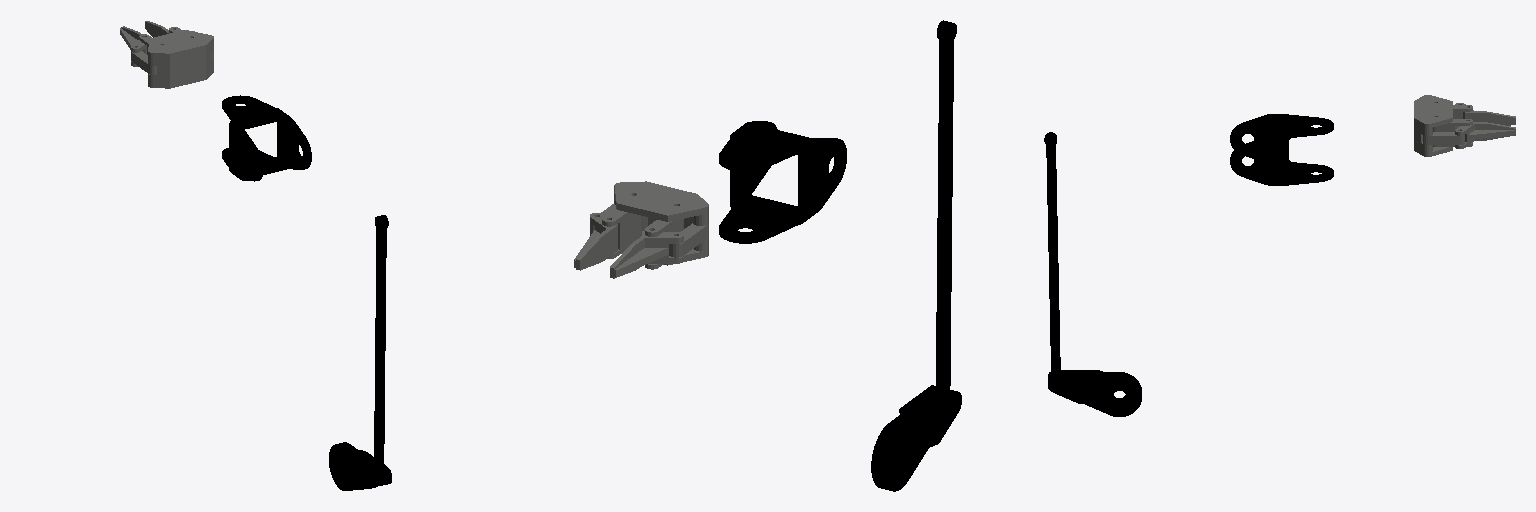
robot.urdf — grips:
<?xml version="1.0" ?>
<!-- =================================================================================== -->
<!-- |    This document was autogenerated by xacro from [local-path]/catkin_ws/src/grips/grips_description/robots/grips.xacro | -->
<!-- |    EDITING THIS FILE BY HAND IS NOT RECOMMENDED                                 | -->
<!-- =================================================================================== -->
<robot name="grips" xmlns:xacro="http://www.ros.org/wiki/xacro">
  <!-- Import common macros-->
  <!-- Import materials for rviz-->
  <material name="black">
    <color rgba="0.0 0.0 0.0 1.0"/>
  </material>
  <material name="blue">
    <color rgba="0.0 0.0 0.8 1.0"/>
  </material>
  <material name="green">
    <color rgba="0.0 0.8 0.0 1.0"/>
  </material>
  <material name="grey">
    <color rgba="0.2 0.2 0.2 1.0"/>
  </material>
  <material name="orange">
    <color rgba="1.0 0.423529411765 0.0392156862745 1.0"/>
  </material>
  <material name="brown">
    <color rgba="0.870588235294 0.811764705882 0.764705882353 1.0"/>
  </material>
  <material name="red">
    <color rgba="0.8 0.0 0.0 1.0"/>
  </material>
  <material name="white">
    <color rgba="1.0 1.0 1.0 1.0"/>
  </material>
  <material name="metal_seamed">
    <color rgba="0.4627450980392157 0.4666666666666667 0.4509803921568628 1.0"/>
  </material>
  <!-- Import robot without gripper -->
  <!-- Import simple gripper -->
  <!-- Create the grips robot -->
  <link name="base_link">
    <visual>
      <geometry>
        <mesh filename="package://grips_description/meshes/base/base.dae"/>
      </geometry>
      <material name="black"/>
    </visual>
    <collision>
      <geometry>
        <mesh filename="package://grips_description/meshes/base/base_collision.dae"/>
      </geometry>
    </collision>
    <inertial>
      <origin rpy="0 0 0" xyz="0 0 7e-3"/>
      <mass value="1.208"/>
      <inertia ixx="0.003" ixy="0.0" ixz="0.0" iyy="0.003" iyz="0.0" izz="0.006"/>
    </inertial>
  </link>
  <link name="manifold">
    <visual>
      <geometry>
        <mesh filename="package://grips_description/meshes/manifold/manifold.dae"/>
      </geometry>
      <material name="blue"/>
    </visual>
    <collision>
      <geometry>
        <mesh filename="package://grips_description/meshes/manifold/manifold_collision.dae"/>
      </geometry>
    </collision>
    <inertial>
      <origin rpy="0 0 0" xyz="0 2e-3 0.21"/>
      <mass value="41.111"/>
      <inertia ixx="0.549" ixy="-9.556e-5" ixz="-5.871e-5" iyy="0.855" iyz="2e-3" izz="0.605"/>
    </inertial>
  </link>
  <link name="upper_arm">
    <visual>
      <geometry>
        <mesh filename="package://grips_description/meshes/upper_arm/upper_arm.dae"/>
      </geometry>
      <material name="black"/>
    </visual>
    <collision>
      <geometry>
        <mesh filename="package://grips_description/meshes/upper_arm/upper_arm_collision.dae"/>
      </geometry>
    </collision>
    <inertial>
      <origin rpy="0 0 0" xyz="0 5e-3 0.227"/>
      <mass value="3.592"/>
      <inertia ixx="0.103" ixy="0" ixz="0" iyy="0.106" iyz="0.004" izz="0.013"/>
    </inertial>
  </link>
  <link name="elbow_pivot">
    <visual>
      <geometry>
        <mesh filename="package://grips_description/meshes/linkage/elbow_pivot.dae"/>
      </geometry>
      <material name="black"/>
    </visual>
    <collision>
      <geometry>
        <mesh filename="package://grips_description/meshes/linkage/elbow_pivot.dae"/>
      </geometry>
    </collision>
    <inertial>
      <origin rpy="0 0 0" xyz="-3.6e-10 80.686e-3 -6.33e-5"/>
      <mass value="0.72"/>
      <inertia ixx="0.002" ixy="-3.231e-27" ixz="0" iyy="3.397e-4" iyz="-1.919e-5" izz="0.002"/>
    </inertial>
  </link>
  <link name="coupling">
    <visual>
      <geometry>
        <mesh filename="package://grips_description/meshes/linkage/coupling.dae"/>
      </geometry>
      <material name="black"/>
    </visual>
    <collision>
      <geometry>
        <mesh filename="package://grips_description/meshes/linkage/coupling.dae"/>
      </geometry>
    </collision>
    <inertial>
      <origin rpy="0 0 0" xyz="0 0 -0.26035"/>
      <mass value="0.446"/>
      <inertia ixx="0.011" ixy="-3.231e-27" ixz="0" iyy="0.011" iyz="0" izz="2.102e-5"/>
    </inertial>
  </link>
  <link name="forearm">
    <visual>
      <geometry>
        <mesh filename="package://grips_description/meshes/forearm/forearm.dae"/>
      </geometry>
      <material name="black"/>
    </visual>
    <collision>
      <geometry>
        <mesh filename="package://grips_description/meshes/forearm/forearm_collision.dae"/>
      </geometry>
    </collision>
    <inertial>
      <origin rpy="0 0 0" xyz="0 0.155337 0.012119"/>
      <mass value="4.935"/>
      <inertia ixx="0.073" ixy="0" ixz="0" iyy="0.009" iyz="0.004" izz="0.073"/>
    </inertial>
  </link>
  <link name="pitch">
    <visual>
      <geometry>
        <mesh filename="package://grips_description/meshes/pitch/pitch.dae"/>
      </geometry>
      <material name="black"/>
    </visual>
    <collision>
      <geometry>
        <mesh filename="package://grips_description/meshes/pitch/pitch_collision.dae"/>
      </geometry>
    </collision>
    <inertial>
      <origin rpy="0 0 0" xyz="0 0.065 0"/>
      <mass value="0.679"/>
      <inertia ixx="0.003" ixy="0" ixz="0" iyy="0.002" iyz="0.004" izz="0.002"/>
    </inertial>
  </link>
  <link name="yaw">
    <visual>
      <geometry>
        <mesh filename="package://grips_description/meshes/yaw/yaw.dae"/>
      </geometry>
      <material name="black"/>
    </visual>
    <collision>
      <geometry>
        <mesh filename="package://grips_description/meshes/yaw/yaw_collision.dae"/>
      </geometry>
    </collision>
    <inertial>
      <origin rpy="0 0 0" xyz="-1e-3 95.791e-3 18.273e-3"/>
      <mass value="4.689"/>
      <inertia ixx="0.027" ixy="1.597e-4" ixz="-2.174e-4" iyy="0.009" iyz="-0.003" izz="0.026"/>
    </inertial>
  </link>
  <link name="end_effector"/>
  <link name="camera">
    <visual>
      <geometry>
        <mesh filename="package://grips_description/meshes/camera/camera.dae"/>
      </geometry>
      <material name="black"/>
    </visual>
    <collision>
      <geometry>
        <mesh filename="package://grips_description/meshes/camera/camera_collision.dae"/>
      </geometry>
    </collision>
    <inertial>
      <origin rpy="0 0 0" xyz="0.077 0.007 0.002"/>
      <mass value="0.869"/>
      <inertia ixx="0.001" ixy="-1.561e-4" ixz="-5.859e-5" iyy="0.002" iyz="3.295e-5" izz="0.002"/>
    </inertial>
  </link>
  <joint name="SA" type="revolute">
    <child link="manifold"/>
    <parent link="base_link"/>
    <axis xyz="0 0 1"/>
    <origin rpy="0 0 0" xyz="0 0 15.24e-3"/>
    <limit effort="200" lower="-1.57079632679" upper="1.57079632679" velocity="15"/>
    <dynamics damping="5"/>
  </joint>
  <joint name="SE" type="revolute">
    <child link="upper_arm"/>
    <parent link="manifold"/>
    <axis xyz="1 0 0"/>
    <origin rpy="0 0 0" xyz="0 0 0.33812"/>
    <limit effort="200" lower="-1.57079632679" upper="0.523598775598" velocity="15"/>
    <dynamics damping="5" friction="10"/>
  </joint>
  <joint name="linkage_tr" type="revolute">
    <child link="forearm"/>
    <parent link="upper_arm"/>
    <axis xyz="1 0 0"/>
    <origin rpy="0 0 0" xyz="0 -9.82e-3 0.52167"/>
    <limit effort="200" lower="-1.28" upper="1.0471975512" velocity="15"/>
    <dynamics damping="10"/>
  </joint>
  <joint name="WP" type="revolute">
    <child link="pitch"/>
    <parent link="forearm"/>
    <axis xyz="1 0 0"/>
    <origin rpy="0 0 0" xyz="0 0.26109 7.5e-3"/>
    <limit effort="200" lower="-1.1" upper="0.581" velocity="15"/>
    <dynamics damping="5"/>
  </joint>
  <joint name="WY" type="revolute">
    <child link="yaw"/>
    <parent link="pitch"/>
    <axis xyz="0 0 1"/>
    <origin rpy="0 0 0" xyz="0 0.13322 0"/>
    <limit effort="200" lower="-1.01" upper="0.675" velocity="15"/>
    <dynamics damping="5"/>
  </joint>
  <joint name="WR" type="continuous">
    <child link="end_effector"/>
    <parent link="yaw"/>
    <axis xyz="0 1 0"/>
    <origin rpy="0 0 0" xyz="-0.787e-3 0.190892 0.051331"/>
    <limit effort="200" velocity="200"/>
    <dynamics damping="0.5"/>
  </joint>
  <joint name="camera_joint" type="fixed">
    <child link="camera"/>
    <parent link="yaw"/>
    <axis xyz="0 1 0"/>
    <origin rpy="0 0.523598775598 1.57079632679" xyz="0 0.095446 0.25"/>
  </joint>
  <joint name="linkage_tl" type="continuous">
    <child link="coupling"/>
    <parent link="forearm"/>
    <axis xyz="1 0 0"/>
    <origin rpy="0.019320795 0 0" xyz="0 -0.123444 0.029845"/>
    <limit effort="200" velocity="15"/>
    <dynamics damping="0.5" friction="0.5"/>
  </joint>
  <joint name="linkage_bl" type="continuous">
    <child link="elbow_pivot"/>
    <parent link="coupling"/>
    <axis xyz="1 0 0"/>
    <origin rpy="-0.24521876 0 0" xyz="0 0 -0.5207"/>
    <limit effort="200" velocity="15"/>
    <dynamics damping="0.5" friction="0.5"/>
  </joint>
  <transmission name="SA_tran">
    <type>transmission_interface/SimpleTransmission</type>
    <joint name="SA"/>
    <actuator name="SA_motor">
      <hardwareInterface>EffortJointInterface</hardwareInterface>
      <mechanicalReduction>1</mechanicalReduction>
    </actuator>
  </transmission>
  <transmission name="SE_tran">
    <type>transmission_interface/SimpleTransmission</type>
    <joint name="SE"/>
    <actuator name="SE_motor">
      <hardwareInterface>EffortJointInterface</hardwareInterface>
      <mechanicalReduction>1</mechanicalReduction>
    </actuator>
  </transmission>
  <transmission name="WP_tran">
    <type>transmission_interface/SimpleTransmission</type>
    <joint name="WP"/>
    <actuator name="WP_motor">
      <hardwareInterface>EffortJointInterface</hardwareInterface>
      <mechanicalReduction>1</mechanicalReduction>
    </actuator>
  </transmission>
  <transmission name="WY_tran">
    <type>transmission_interface/SimpleTransmission</type>
    <joint name="WY"/>
    <actuator name="WY_motor">
      <hardwareInterface>EffortJointInterface</hardwareInterface>
      <mechanicalReduction>1</mechanicalReduction>
    </actuator>
  </transmission>
  <transmission name="WR_tran">
    <type>transmission_interface/SimpleTransmission</type>
    <joint name="WR"/>
    <actuator name="WR_motor">
      <hardwareInterface>EffortJointInterface</hardwareInterface>
      <mechanicalReduction>1</mechanicalReduction>
    </actuator>
  </transmission>
  <transmission name="linkage_tr_tran">
    <type>transmission_interface/SimpleTransmission</type>
    <joint name="linkage_tr"/>
    <actuator name="linkage_tr_motor">
      <hardwareInterface>EffortJointInterface</hardwareInterface>
      <mechanicalReduction>1</mechanicalReduction>
    </actuator>
  </transmission>
  <transmission name="linkage_tl_tran">
    <type>transmission_interface/SimpleTransmission</type>
    <joint name="linkage_tl"/>
    <actuator name="linkage_tl_motor">
      <hardwareInterface>EffortJointInterface</hardwareInterface>
      <mechanicalReduction>1</mechanicalReduction>
    </actuator>
  </transmission>
  <transmission name="linkage_bl_tran">
    <type>transmission_interface/SimpleTransmission</type>
    <joint name="linkage_bl"/>
    <actuator name="linkage_bl_motor">
      <hardwareInterface>EffortJointInterface</hardwareInterface>
      <mechanicalReduction>1</mechanicalReduction>
    </actuator>
  </transmission>
  <gazebo reference="base_link">
    <material>Telerobcar/MetalSeamed</material>
    <selfCollide>false</selfCollide>
  </gazebo>
  <gazebo reference="manifold">
    <material>Telerobcar/MetalSeamed</material>
    <selfCollide>false</selfCollide>
  </gazebo>
  <gazebo reference="upper_arm">
    <material>Telerobcar/MetalSeamed</material>
    <selfCollide>false</selfCollide>
  </gazebo>
  <gazebo reference="elbow_pivot">
    <material>Telerobcar/MetalSeamed</material>
    <selfCollide>false</selfCollide>
  </gazebo>
  <gazebo reference="coupling">
    <material>Telerobcar/MetalSeamed</material>
    <selfCollide>false</selfCollide>
  </gazebo>
  <gazebo reference="forearm">
    <material>Telerobcar/MetalSeamed</material>
    <selfCollide>false</selfCollide>
  </gazebo>
  <gazebo reference="pitch">
    <material>Telerobcar/MetalSeamed</material>
    <selfCollide>false</selfCollide>
  </gazebo>
  <gazebo reference="yaw">
    <material>Telerobcar/MetalSeamed</material>
    <selfCollide>false</selfCollide>
  </gazebo>
  <gazebo reference="camera">
    <material>Gazebo/FlatBlack</material>
    <selfCollide>false</selfCollide>
    <sensor name="camera" type="camera">
      <update_rate>30.0</update_rate>
      <camera name="camera">
        <horizontal_fov>1.3962634</horizontal_fov>
        <image>
          <width>800</width>
          <height>800</height>
          <format>R8G8B8</format>
        </image>
        <clip>
          <near>0.02</near>
          <far>300</far>
        </clip>
      </camera>
      <plugin filename="libgazebo_ros_camera.so" name="camera_controller">
        <alwaysOn>true</alwaysOn>
        <updateRate>0.0</updateRate>
        <cameraName>camera</cameraName>
        <imageTopicName>image_raw</imageTopicName>
        <cameraInfoTopicName>camera_info</cameraInfoTopicName>
        <frameName>camera</frameName>
        <hackBaseline>0.07</hackBaseline>
        <distortionK1>0.0</distortionK1>
        <distortionK2>0.0</distortionK2>
        <distortionK3>0.0</distortionK3>
        <distortionT1>0.0</distortionT1>
        <distortionT2>0.0</distortionT2>
      </plugin>
    </sensor>
  </gazebo>
  <!-- Create the simple_gripper -->
  <link name="gripper_base">
    <visual>
      <geometry>
        <mesh filename="package://grips_description/meshes/gripper/gripper_base.dae"/>
      </geometry>
      <material name="metal_seamed"/>
    </visual>
    <collision>
      <geometry>
        <mesh filename="package://grips_description/meshes/gripper/gripper_base.dae"/>
      </geometry>
    </collision>
    <inertial>
      <origin rpy="0 0 0" xyz="0 26.28e-3 0"/>
      <mass value="0.923"/>
      <inertia ixx="0.003" ixy="0.0" ixz="0.0" iyy="0.003" iyz="0.0" izz="0.006"/>
    </inertial>
  </link>
  <link name="r_outer">
    <visual>
      <geometry>
        <mesh filename="package://grips_description/meshes/gripper/outer_pivot.dae"/>
      </geometry>
      <material name="metal_seamed"/>
    </visual>
    <collision>
      <geometry>
        <mesh filename="package://grips_description/meshes/gripper/outer_pivot.dae"/>
      </geometry>
    </collision>
    <inertial>
      <origin rpy="0 0 0" xyz="0 31.725e-3 0"/>
      <mass value="0.091"/>
      <inertia ixx="4.664e-5" ixy="0.0" ixz="0.0" iyy="5.519e-6" iyz="0.0" izz="4.682e-5"/>
    </inertial>
  </link>
  <link name="l_outer">
    <visual>
      <geometry>
        <mesh filename="package://grips_description/meshes/gripper/outer_pivot.dae"/>
      </geometry>
      <material name="metal_seamed"/>
    </visual>
    <collision>
      <geometry>
        <mesh filename="package://grips_description/meshes/gripper/outer_pivot.dae"/>
      </geometry>
    </collision>
    <inertial>
      <origin rpy="0 0 0" xyz="0 31.725e-3 0"/>
      <mass value="0.091"/>
      <inertia ixx="4.664e-5" ixy="0.0" ixz="0.0" iyy="5.519e-6" iyz="0.0" izz="4.682e-5"/>
    </inertial>
  </link>
  <link name="r_inner">
    <visual>
      <geometry>
        <mesh filename="package://grips_description/meshes/gripper/r_inner_pivot.dae"/>
      </geometry>
      <material name="metal_seamed"/>
    </visual>
    <collision>
      <geometry>
        <mesh filename="package://grips_description/meshes/gripper/r_inner_pivot.dae"/>
      </geometry>
    </collision>
    <inertial>
      <origin rpy="0 0 0" xyz="-0.316e-3 23.873e-3 0"/>
      <mass value="0.194"/>
      <inertia ixx="1.179e-4" ixy="1.347e-6" ixz="0.0" iyy="5.647e-5" iyz="0.0" izz="7.353e-5"/>
    </inertial>
  </link>
  <link name="l_inner">
    <visual>
      <geometry>
        <mesh filename="package://grips_description/meshes/gripper/l_inner_pivot.dae"/>
      </geometry>
      <material name="metal_seamed"/>
    </visual>
    <collision>
      <geometry>
        <mesh filename="package://grips_description/meshes/gripper/l_inner_pivot.dae"/>
      </geometry>
    </collision>
    <inertial>
      <origin rpy="0 0 0" xyz="0.316e-3 23.873e-3 0"/>
      <mass value="0.194"/>
      <inertia ixx="1.179e-4" ixy="-1.347e-6" ixz="0.0" iyy="5.647e-5" iyz="0.0" izz="7.353e-5"/>
    </inertial>
  </link>
  <link name="r_finger">
    <visual>
      <geometry>
        <mesh filename="package://grips_description/meshes/gripper/r_finger.dae"/>
      </geometry>
      <material name="metal_seamed"/>
    </visual>
    <collision>
      <geometry>
        <mesh filename="package://grips_description/meshes/gripper/r_finger.dae"/>
      </geometry>
    </collision>
    <inertial>
      <origin rpy="0 0 0" xyz="3.441e-3 20.353e-3 0"/>
      <mass value="0.174"/>
      <inertia ixx="1.65e-4" ixy="3.16e-5" ixz="0.0" iyy="3.595e-5" iyz="0.0" izz="1.701e-4"/>
    </inertial>
  </link>
  <link name="l_finger">
    <visual>
      <geometry>
        <mesh filename="package://grips_description/meshes/gripper/l_finger.dae"/>
      </geometry>
      <material name="metal_seamed"/>
    </visual>
    <collision>
      <geometry>
        <mesh filename="package://grips_description/meshes/gripper/l_finger.dae"/>
      </geometry>
    </collision>
    <inertial>
      <origin rpy="0 0 0" xyz="-3.441e-3 20.353e-3 0"/>
      <mass value="0.174"/>
      <inertia ixx="1.65e-4" ixy="-3.16e-5" ixz="0.0" iyy="3.595e-5" iyz="0.0" izz="1.701e-4"/>
    </inertial>
  </link>
  <joint name="r_inner" type="revolute">
    <child link="r_inner"/>
    <parent link="gripper_base"/>
    <axis xyz="0 0 1"/>
    <origin rpy="0 0 0" xyz="31.737e-3 42.19e-3 0"/>
    <limit effort="200" lower="-1.43" upper="0.4" velocity="15"/>
    <dynamics damping="0.1"/>
  </joint>
  <joint name="l_inner" type="revolute">
    <child link="l_inner"/>
    <parent link="gripper_base"/>
    <axis xyz="0 0 1"/>
    <origin rpy="0 0 0" xyz="-31.737e-3 42.19e-3 0"/>
    <limit effort="200" lower="-0.4" upper="1.43" velocity="15"/>
    <dynamics damping="0.1"/>
  </joint>
  <joint name="r_outer" type="revolute">
    <child link="r_outer"/>
    <parent link="gripper_base"/>
    <axis xyz="0 0 1"/>
    <origin rpy="0 0 0" xyz="58.93e-3 26.49e-3 0"/>
    <limit effort="200" lower="-1.43" upper="0.4" velocity="15"/>
    <dynamics damping="0.1"/>
  </joint>
  <joint name="l_outer" type="revolute">
    <child link="l_outer"/>
    <parent link="gripper_base"/>
    <axis xyz="0 0 1"/>
    <origin rpy="0 0 0" xyz="-58.93e-3 26.49e-3 0"/>
    <limit effort="200" lower="-0.4" upper="1.43" velocity="15"/>
    <dynamics damping="0.1"/>
  </joint>
  <joint name="r_finger" type="revolute">
    <child link="r_finger"/>
    <parent link="r_inner"/>
    <axis xyz="0 0 1"/>
    <origin rpy="0 0 0" xyz="0 63.45e-3 0"/>
    <limit effort="200" lower="-1.57079632679" upper="1.57079632679" velocity="15"/>
    <dynamics damping="0.1"/>
  </joint>
  <joint name="l_finger" type="revolute">
    <child link="l_finger"/>
    <parent link="l_inner"/>
    <axis xyz="0 0 1"/>
    <origin rpy="0 0 0" xyz="0 63.45e-3 0"/>
    <limit effort="200" lower="-1.57079632679" upper="1.57079632679" velocity="15"/>
    <dynamics damping="0.1"/>
  </joint>
  <transmission name="r_outer_tran">
    <type>transmission_interface/SimpleTransmission</type>
    <joint name="r_outer"/>
    <actuator name="r_outer_motor">
      <hardwareInterface>EffortJointInterface</hardwareInterface>
      <mechanicalReduction>1</mechanicalReduction>
    </actuator>
  </transmission>
  <transmission name="l_outer_tran">
    <type>transmission_interface/SimpleTransmission</type>
    <joint name="l_outer"/>
    <actuator name="l_outer_motor">
      <hardwareInterface>EffortJointInterface</hardwareInterface>
      <mechanicalReduction>1</mechanicalReduction>
    </actuator>
  </transmission>
  <transmission name="r_inner_tran">
    <type>transmission_interface/SimpleTransmission</type>
    <joint name="r_inner"/>
    <actuator name="r_inner_motor">
      <hardwareInterface>EffortJointInterface</hardwareInterface>
      <mechanicalReduction>1</mechanicalReduction>
    </actuator>
  </transmission>
  <transmission name="l_inner_tran">
    <type>transmission_interface/SimpleTransmission</type>
    <joint name="l_inner"/>
    <actuator name="l_inner_motor">
      <hardwareInterface>EffortJointInterface</hardwareInterface>
      <mechanicalReduction>1</mechanicalReduction>
    </actuator>
  </transmission>
  <transmission name="r_finger_tran">
    <type>transmission_interface/SimpleTransmission</type>
    <joint name="r_finger"/>
    <actuator name="r_finger_motor">
      <hardwareInterface>EffortJointInterface</hardwareInterface>
      <mechanicalReduction>1</mechanicalReduction>
    </actuator>
  </transmission>
  <transmission name="l_finger_tran">
    <type>transmission_interface/SimpleTransmission</type>
    <joint name="l_finger"/>
    <actuator name="l_finger_motor">
      <hardwareInterface>EffortJointInterface</hardwareInterface>
      <mechanicalReduction>1</mechanicalReduction>
    </actuator>
  </transmission>
  <gazebo reference="gripper_base">
    <material>Telerobcar/MetalSeamed</material>
    <selfCollide>false</selfCollide>
  </gazebo>
  <gazebo reference="r_outer">
    <material>Telerobcar/MetalSeamed</material>
    <selfCollide>false</selfCollide>
  </gazebo>
  <gazebo reference="l_outer">
    <material>Telerobcar/MetalSeamed</material>
    <selfCollide>false</selfCollide>
  </gazebo>
  <gazebo reference="r_inner">
    <material>Telerobcar/MetalSeamed</material>
    <selfCollide>false</selfCollide>
  </gazebo>
  <gazebo reference="l_inner">
    <material>Telerobcar/MetalSeamed</material>
    <selfCollide>false</selfCollide>
  </gazebo>
  <gazebo reference="r_finger">
    <material>Telerobcar/MetalSeamed</material>
    <selfCollide>false</selfCollide>
    <mu1>1.1</mu1>
    <mu2>1.1</mu2>
    <fdir1>0 0 1</fdir1>
    <kp>1000000.0</kp>
    <kd>10.0</kd>
    <maxVel>0.1</maxVel>
    <minDepth>0.001</minDepth>
    <maxContacts>5</maxContacts>
  </gazebo>
  <gazebo reference="l_finger">
    <material>Telerobcar/MetalSeamed</material>
    <selfCollide>false</selfCollide>
    <mu1>1.1</mu1>
    <mu2>1.1</mu2>
    <fdir1>0 0 1</fdir1>
    <kp>1000000.0</kp>
    <kd>100.0</kd>
    <maxVel>0.1</maxVel>
    <minDepth>0.001</minDepth>
    <maxContacts>5</maxContacts>
  </gazebo>
  <gazebo>
    <gripper name="grasping">
      <grasp_check>
        <attach_steps>1</attach_steps>
        <!-- default: 20 -->
        <detach_steps>1</detach_steps>
        <!-- default: 40 -->
        <min_contact_count>2</min_contact_count>
      </grasp_check>
      <gripper_link>r_finger</gripper_link>
      <gripper_link>l_finger</gripper_link>
      <palm_link>gripper_base</palm_link>
    </gripper>
  </gazebo>
  <!-- Used for fixing robot to Gazebo 'base_link' -->
  <link name="world"/>
  <joint name="anchor" type="fixed">
    <origin rpy="0 0 0" xyz="0 0 0.001"/>
    <parent link="world"/>
    <child link="base_link"/>
  </joint>
  <!-- Used for fixing the gripper to the robot -->
  <joint name="gripper_anchor" type="fixed">
    <origin rpy="0 0 0" xyz="0 0 0"/>
    <parent link="end_effector"/>
    <child link="gripper_base"/>
  </joint>
  <!-- ros_control plugin -->
  <gazebo>
    <plugin filename="libgazebo_ros_control.so" name="ros_control">
		</plugin>
  </gazebo>
</robot>

--- Render facts (derived) ---
Views: 3 orthographic renders of the robot side by side, from view 1: azimuth 30°, elevation 25°; view 2: azimuth 150°, elevation 25°; view 3: azimuth 270°, elevation 25°.
Model grips with 18 links and 17 joints (11 revolute, 3 continuous, 3 fixed), rooted at world, posed every joint at zero.
Visible links, largest first — view 1: pitch, gripper_base, coupling, elbow_pivot; view 2: pitch, coupling, elbow_pivot, gripper_base, l_finger, r_finger, r_inner, l_outer, l_inner; view 3: pitch, elbow_pivot, coupling, gripper_base, r_finger, l_finger.
Boxes of the visible links, bbox=[...] form: pitch: bbox=[222, 95, 311, 181]; gripper_base: bbox=[148, 30, 213, 88]; coupling: bbox=[374, 215, 388, 483]; elbow_pivot: bbox=[329, 442, 391, 490]; pitch: bbox=[719, 121, 846, 243]; coupling: bbox=[933, 20, 956, 404]; elbow_pivot: bbox=[871, 385, 961, 491]; gripper_base: bbox=[614, 181, 708, 265]; l_finger: bbox=[610, 232, 683, 278]; r_finger: bbox=[574, 213, 617, 270]; r_inner: bbox=[602, 208, 641, 258]; l_outer: bbox=[669, 223, 708, 257]; l_inner: bbox=[645, 219, 683, 269]; pitch: bbox=[1230, 114, 1333, 185]; elbow_pivot: bbox=[1048, 370, 1141, 416]; coupling: bbox=[1044, 132, 1060, 377]; gripper_base: bbox=[1414, 95, 1452, 156]; r_finger: bbox=[1455, 122, 1515, 148]; l_finger: bbox=[1455, 103, 1515, 125].
Size in the robot's own frame: 0.1372 by 0.9193 by 0.6579 metres.
10 mesh visuals loaded from 15 distinct referenced files (9 Collada DAE); not drawn: 6 (reference not matched to a file when rendering).